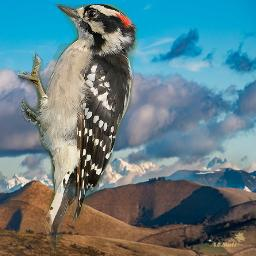Woodpecker: (18, 4, 140, 253)
